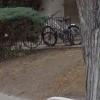Bicycle: (37, 11, 85, 51)
